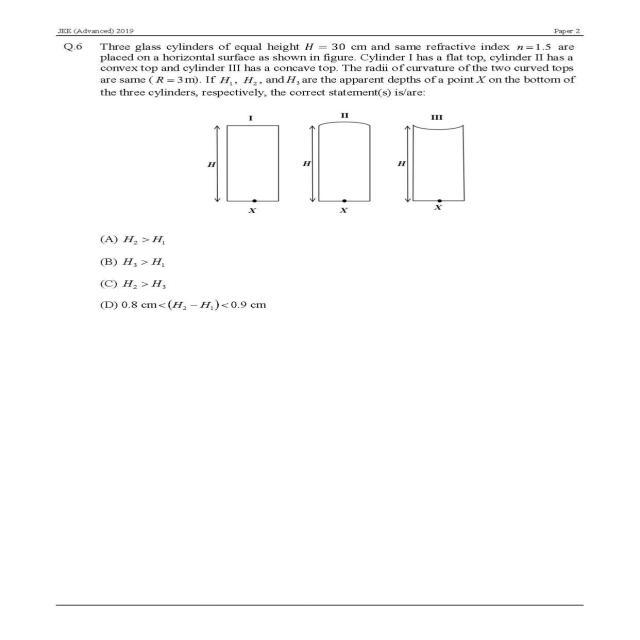Answer_Block: (51, 223, 597, 323)
Question_Answer_Block: (51, 39, 597, 322)
Question_Block: (51, 38, 597, 222)
Question_Paper_Area: (51, 39, 597, 481)
